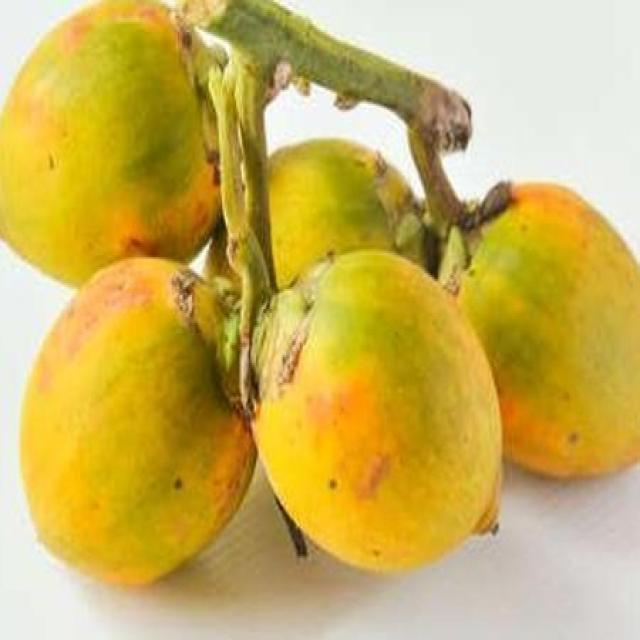good: (249, 247, 503, 578), (18, 257, 257, 590), (0, 0, 222, 291), (458, 183, 639, 482)
